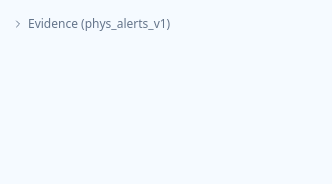
Test: AlertEvidenceBlock › shows spike_pct_rounded from trigger_data for overexertion
This screenshot has width=332, height=184.
Click the button "Evidence (phys_alerts_v1)". click: [91, 24]
box: top-left (12, 16), bottom-right (170, 32)
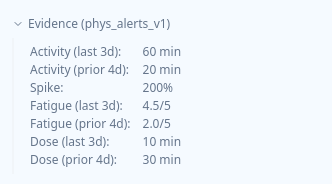
expect the text "200%" is shown: met, box top-left (142, 79), bottom-right (173, 96)
